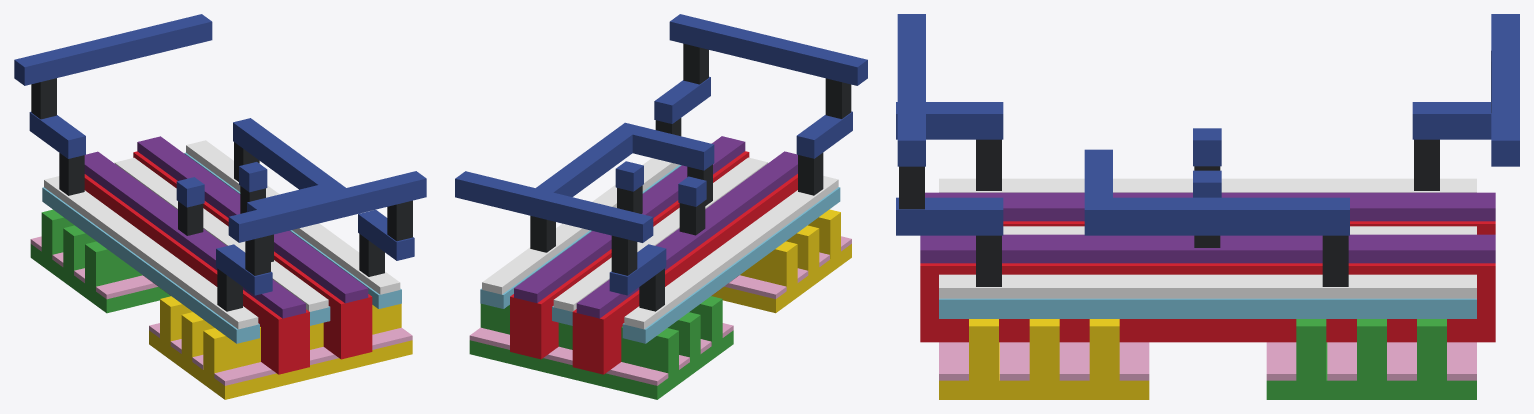
Rendered from 14nor.obj.
The picture shows the model from 3 angles, left to right: view 1: azimuth 30°, elevation 25°; view 2: azimuth 150°, elevation 25°; view 3: azimuth 270°, elevation 25°; orthographic projection. The views are drawn at different scales.
Visible parts, largest first — view 1: group_0_3888547, group_0_16448250, group_0_8273816, group_0_15277357, group_0_16768282, group_0_2829873, group_0_4634441, group_0_8768998, group_0_15708628; view 2: group_0_3888547, group_0_16448250, group_0_8273816, group_0_15277357, group_0_4634441, group_0_2829873, group_0_16768282, group_0_8768998, group_0_15708628; view 3: group_0_3888547, group_0_8273816, group_0_16448250, group_0_15277357, group_0_8768998, group_0_16768282, group_0_4634441, group_0_15708628, group_0_2829873.
Part boxes in pixels (x1,y1,x2,y2): group_0_3888547: (14,14,426,295); group_0_16448250: (44,140,400,329); group_0_8273816: (84,136,368,318); group_0_15277357: (84,151,372,374); group_0_16768282: (149,296,412,399); group_0_2829873: (31,78,412,311); group_0_4634441: (30,209,170,313); group_0_8768998: (42,152,401,343); group_0_15708628: (30,236,412,385); group_0_3888547: (455,14,867,295); group_0_16448250: (482,157,838,329); group_0_8273816: (514,136,797,318); group_0_15277357: (510,151,797,374); group_0_4634441: (469,296,733,399); group_0_2829873: (530,43,851,311); group_0_16768282: (711,209,851,313); group_0_8768998: (480,165,840,343); group_0_15708628: (469,236,851,385); group_0_3888547: (896,14,1519,235); group_0_8273816: (920,192,1495,263); group_0_16448250: (939,178,1476,298); group_0_15277357: (920,221,1495,342); group_0_8768998: (939,298,1476,318); group_0_16768282: (939,319,1149,399); group_0_4634441: (1266,319,1476,399); group_0_15708628: (939,342,1476,380); group_0_2829873: (899,51,1491,286).
Bounding box in the file's own units: 211 × 200 × 437.
